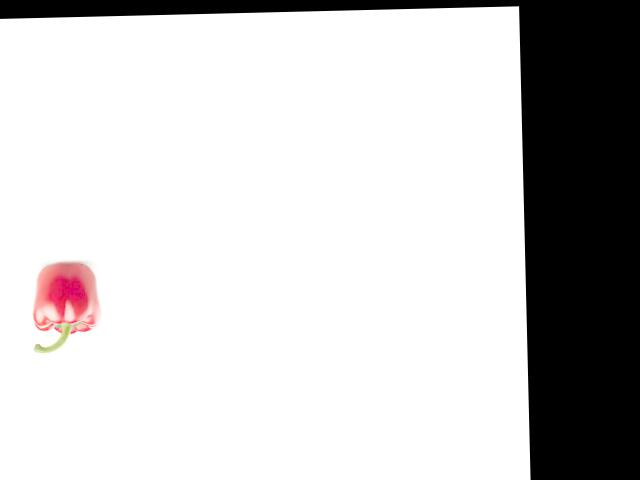bell_pepper: (29, 261, 99, 354)
